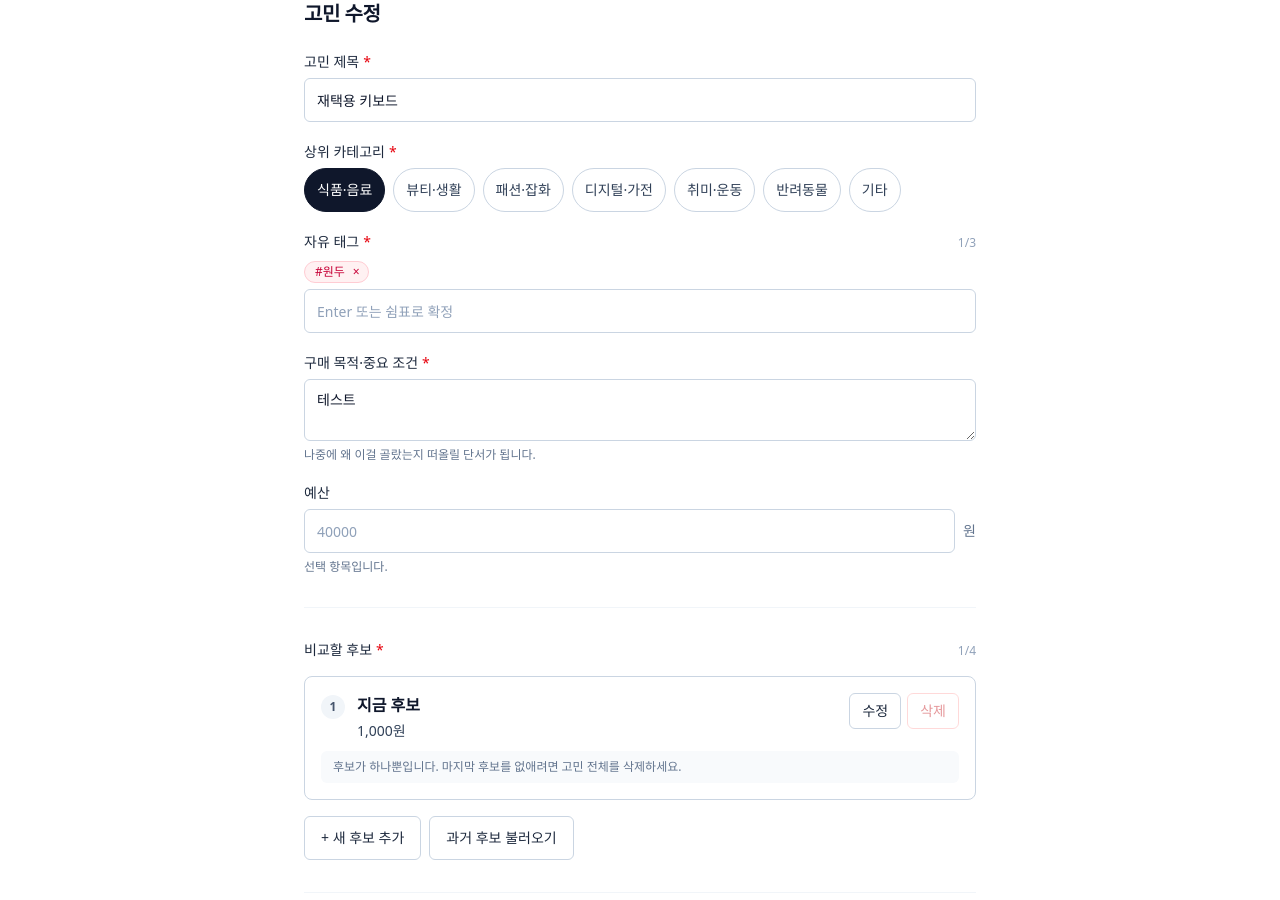
Test case: 블록 48 — 불러오기 목록 › 불러올 것이 없으면 그렇다고 말한다
The width and height of the screenshot is (1280, 900).
Click the button "과거 후보 불러오기". click: (501, 838)
box: [429,816,574,860]
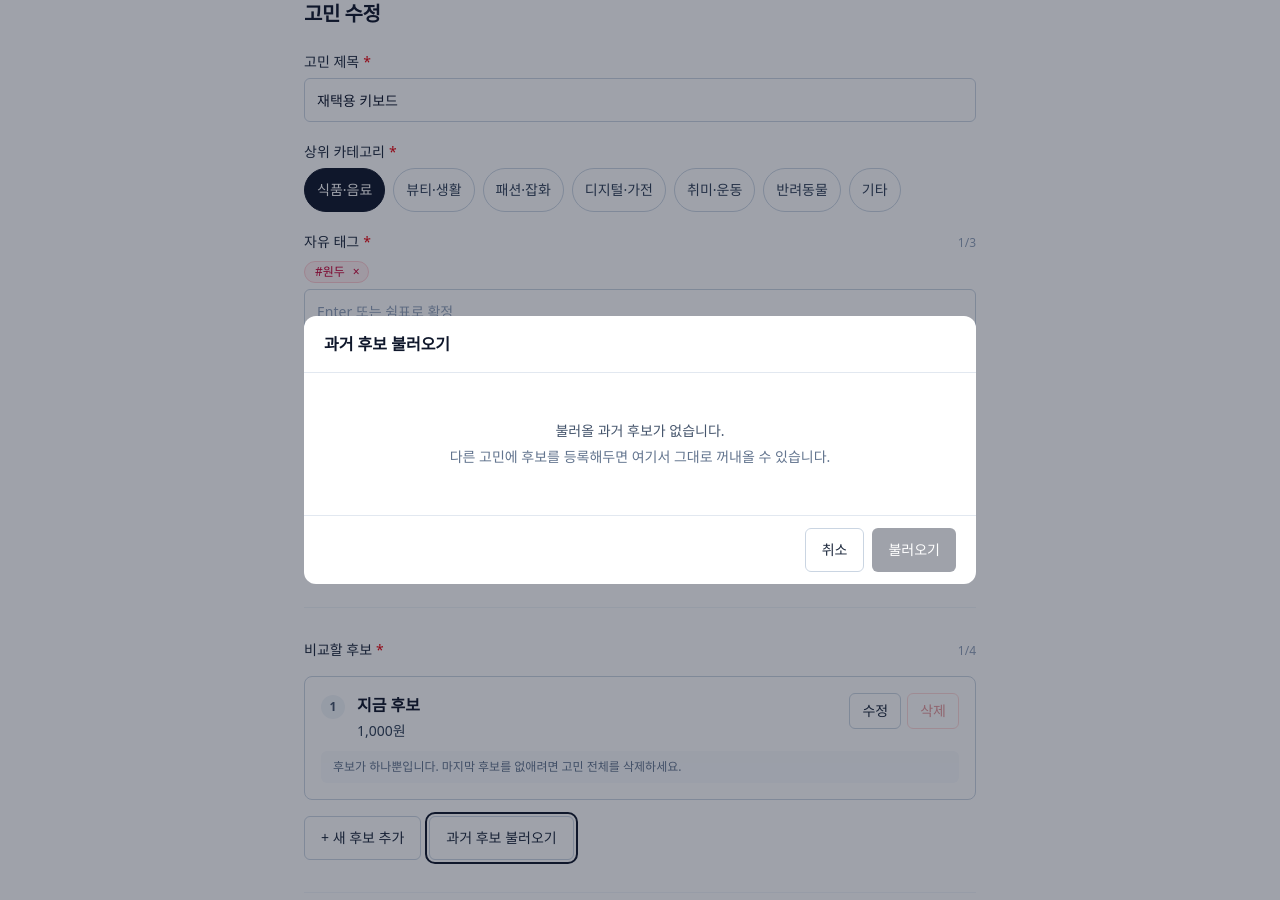
Check: the text "불러올 과거 후보가 없습니다." is shown, box [555,421,725,440]
